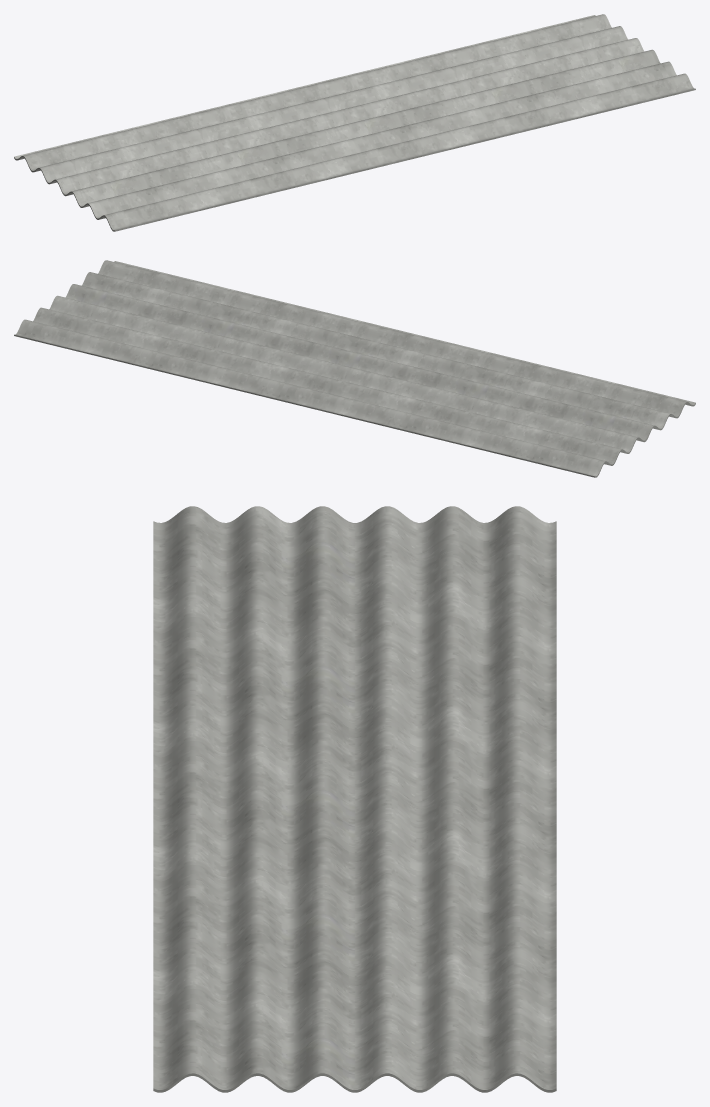
File: COB-FIB-003_lod1.glb
The picture shows the model from 3 angles, top to bottom: view 1: azimuth 30°, elevation 25°; view 2: azimuth 150°, elevation 25°; view 3: azimuth 270°, elevation 25°; orthographic projection. The views are drawn at different scales.
Parts seen in each view (by area): view 1: COB-FIB-003_chapa; view 2: COB-FIB-003_chapa; view 3: COB-FIB-003_chapa.
Boxes of the visible parts, <box> form: COB-FIB-003_chapa: <box>14,14,695,231</box>; COB-FIB-003_chapa: <box>14,260,695,477</box>; COB-FIB-003_chapa: <box>153,506,556,1092</box>.
Size of the model in its own units: 3.66 by 0.0585 by 1.1.
Materials: 1 (1 with a texture image).
